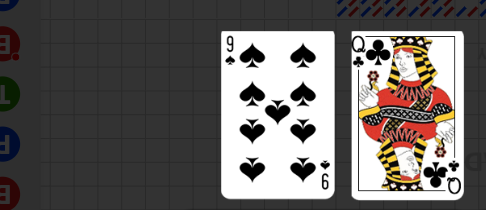9S: (224, 34, 237, 67)
QC: (353, 31, 397, 78), (420, 152, 464, 198)
